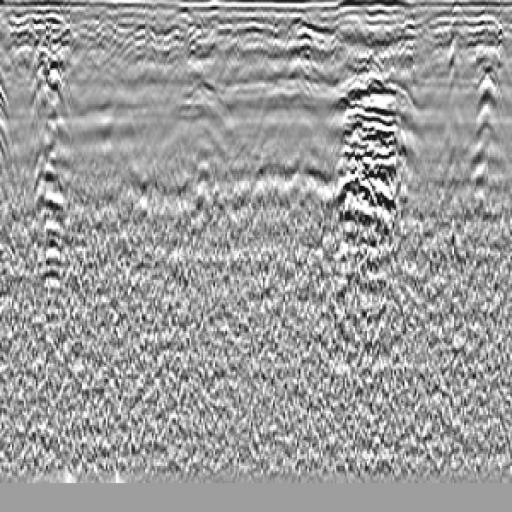metalic: (312, 36, 427, 296)
non-metallic: (451, 30, 512, 213)
